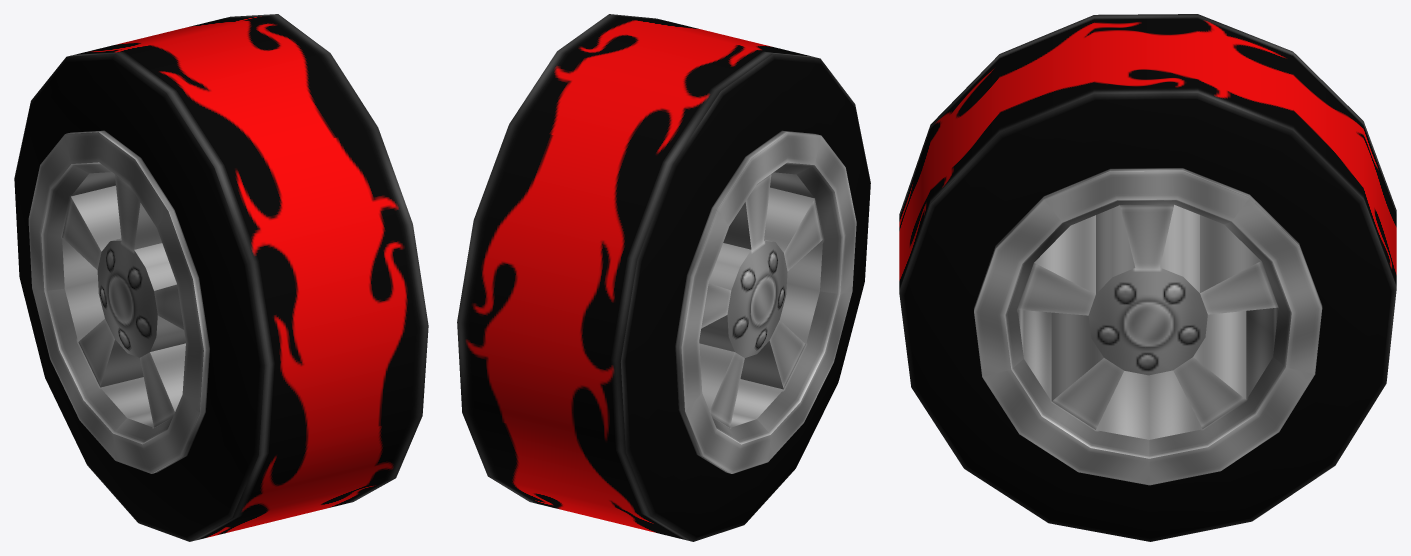
Rendered from wheel_skullcar.FBX.
3 views of the same model, side by side, from view 1: azimuth 30°, elevation 25°; view 2: azimuth 150°, elevation 25°; view 3: azimuth 270°, elevation 25° (orthographic).
Visible parts, largest first — view 1: Object042; view 2: Object042; view 3: Object042.
Boxes of the visible parts, x1=… form: Object042: x1=14, y1=14, x2=428, y2=541; Object042: x1=457, y1=14, x2=870, y2=541; Object042: x1=899, y1=14, x2=1396, y2=541.
Bounding box in the file's own units: 0.0742 × 0.1487 × 0.1494.
